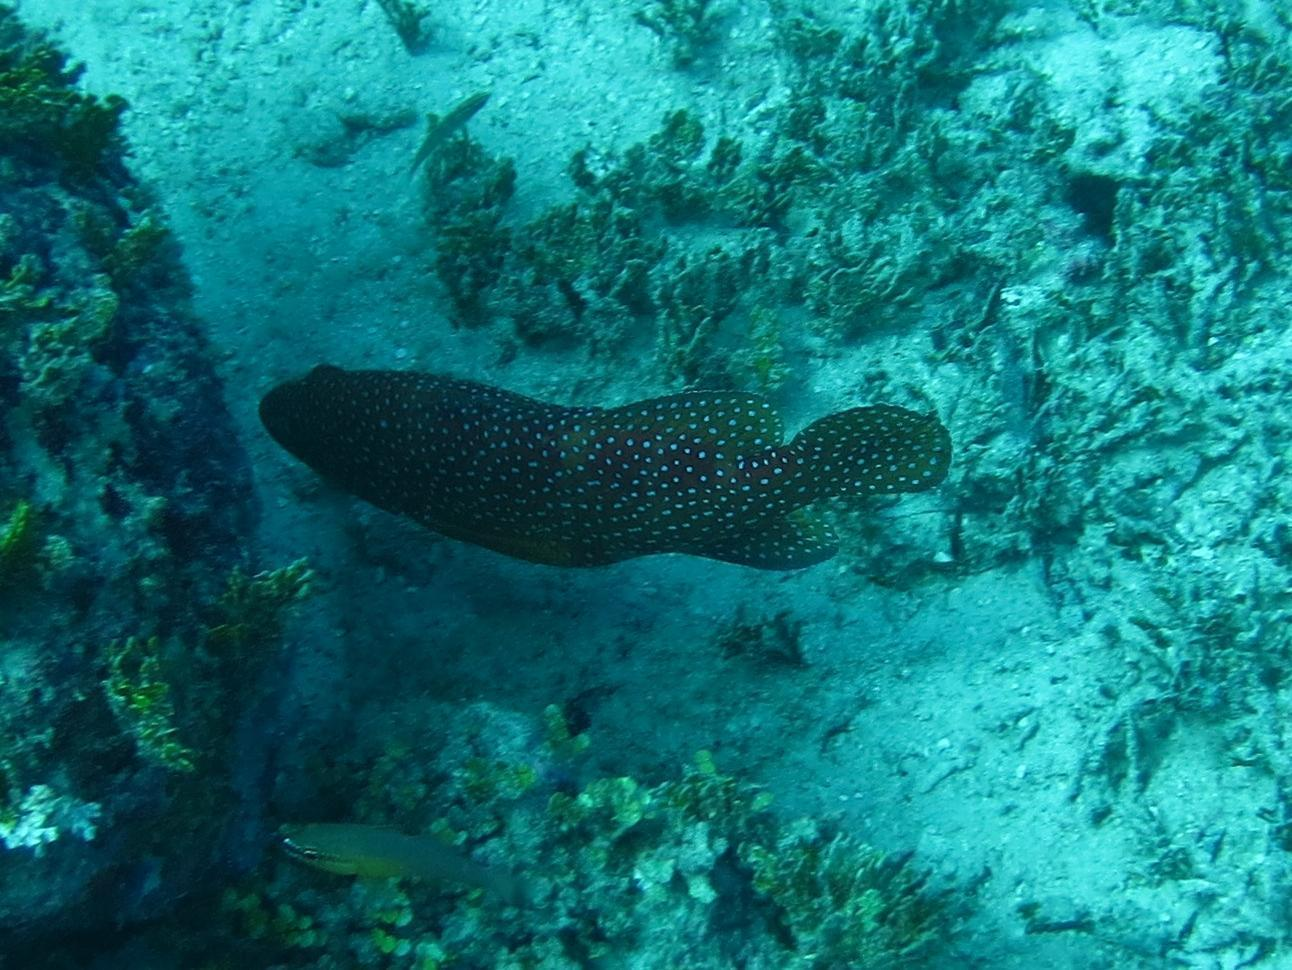Fish: (252, 355, 959, 595)
